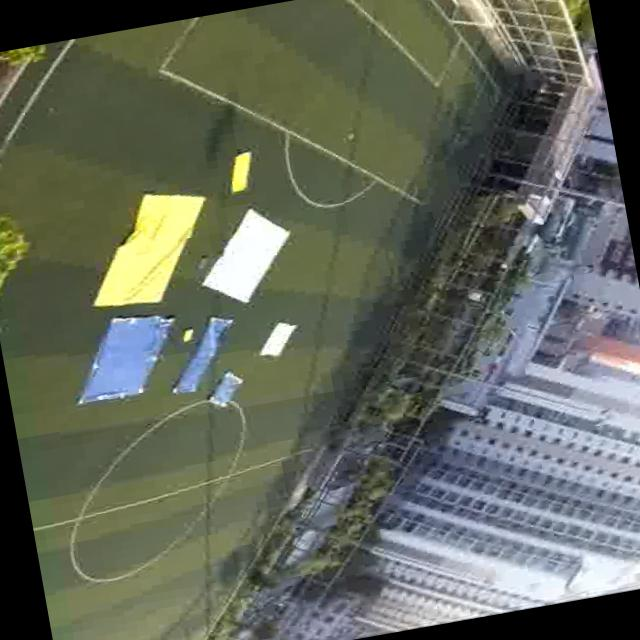danger: (71, 317, 169, 405), (193, 312, 241, 364), (201, 375, 246, 417)
safety: (210, 218, 286, 304), (254, 318, 297, 366)
warning: (91, 192, 190, 305), (220, 151, 259, 199)
